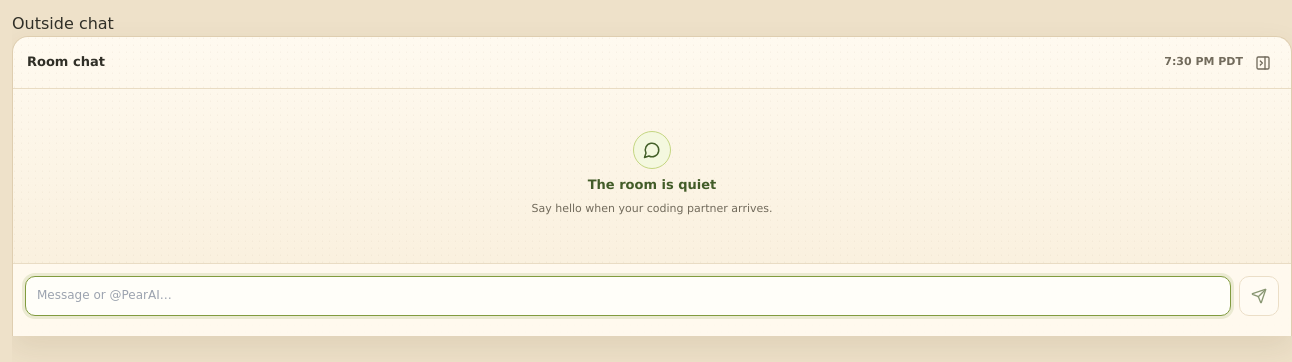
Test: ChatPanel mention menu › selects a clicked result without moving focus away from the composer
Step 1. Type "@" into the dropdown named "Message room" → (628, 296), box [25,276,1231,316]
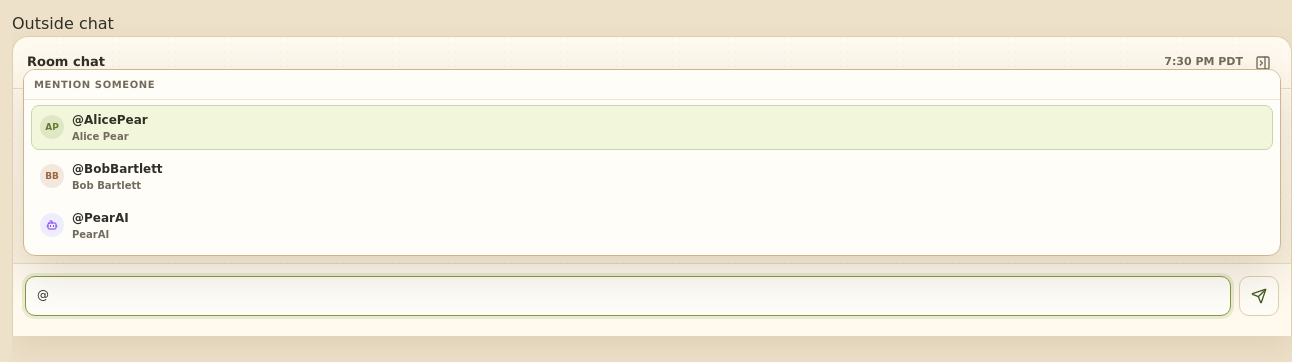
Step 2. Click the option "AP @AlicePear Alice Pear" → (116, 120), box [31,105,1273,150]
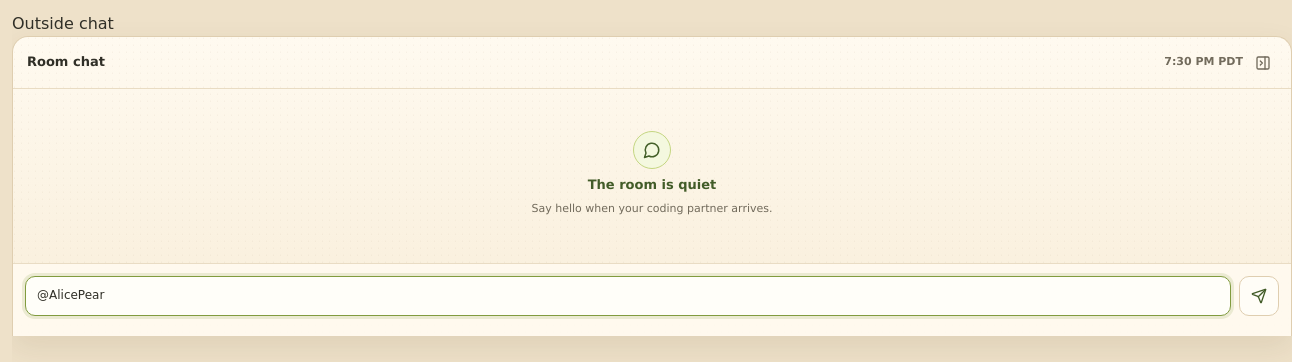
Expected: the dropdown named "Message room" holds "@AlicePear ", [25,276,1231,316]
